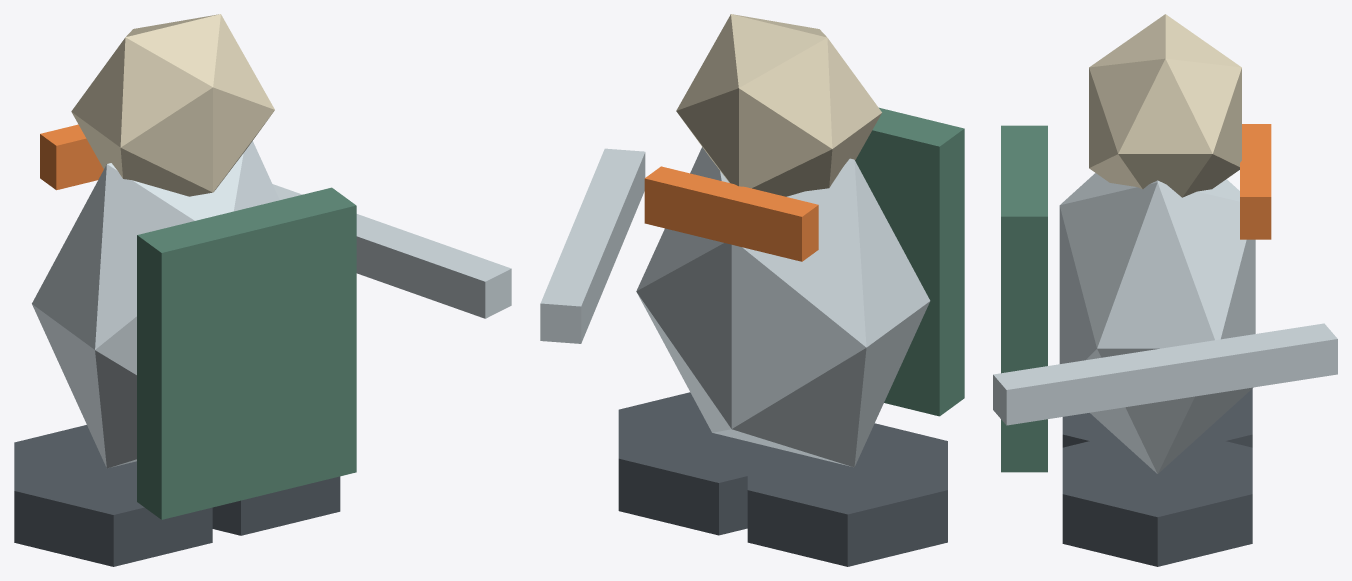
The model's file is player_knight.glb.
The picture shows the model from 3 angles, left to right: view 1: azimuth 30°, elevation 25°; view 2: azimuth 150°, elevation 25°; view 3: azimuth 270°, elevation 25°; orthographic projection. The views are drawn at different scales.
Parts seen in each view (by area): view 1: cloak, armor, head, boots, sword, boots_r, scarf; view 2: armor, head, boots, cloak, boots_r, sword, scarf; view 3: armor, head, boots_r, sword, cloak, scarf, boots.
Boxes of the visible parts, box(x1,y1,x2,y2) form: cloak: box(137, 187, 356, 519); armor: box(32, 141, 279, 468); head: box(71, 14, 274, 196); boots: box(14, 425, 212, 566); sword: box(272, 184, 511, 318); boots_r: box(212, 476, 340, 535); scarf: box(40, 124, 103, 190); armor: box(636, 147, 930, 467); head: box(676, 14, 882, 196); boots: box(747, 423, 947, 566); cloak: box(855, 107, 964, 416); boots_r: box(618, 392, 817, 535); sword: box(540, 148, 645, 343); scarf: box(644, 166, 818, 261); armor: box(1059, 173, 1255, 473); head: box(1089, 14, 1241, 197); boots_r: box(1062, 436, 1252, 566); sword: box(993, 323, 1337, 425); cloak: box(1001, 125, 1047, 472); scarf: box(1240, 124, 1271, 239); boots: box(1062, 388, 1252, 449).
Bounding box in the file's own units: 1.18 × 1.28 × 0.8797.
